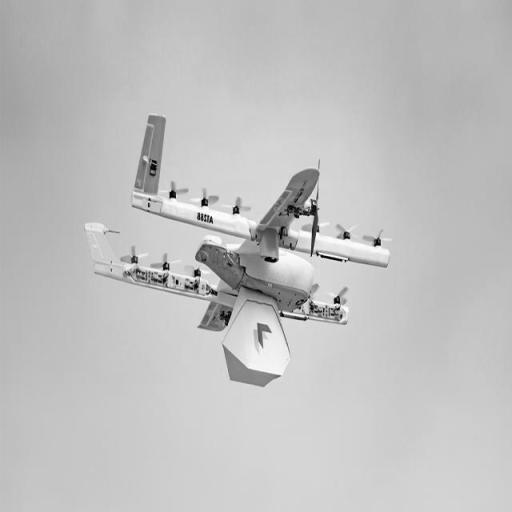uav: (79, 106, 403, 386)
